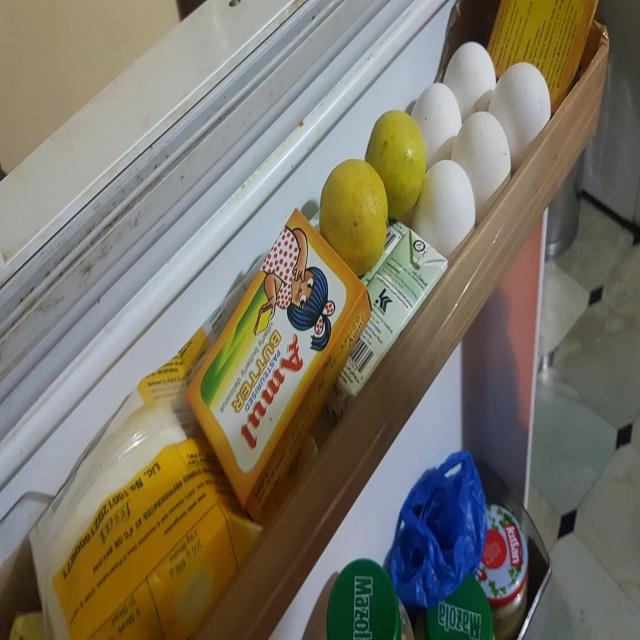butter: (182, 206, 358, 477), (487, 1, 607, 109)
eggs: (449, 109, 524, 214), (411, 156, 480, 261), (491, 52, 552, 170), (437, 37, 500, 124), (408, 76, 466, 155)
lemon: (308, 150, 405, 278), (360, 109, 427, 219)
